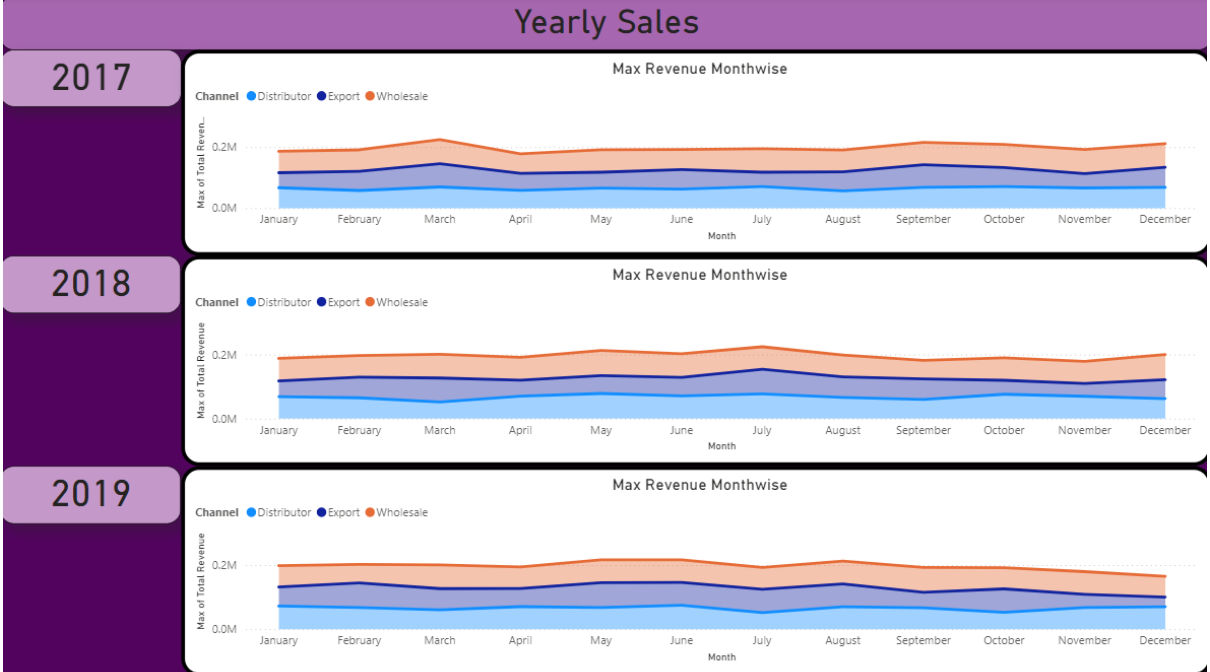

What the dashboard file says about the page in this screenshot:
{"tool":"powerbi","page":{"name":"Page 2","canvas":[1280,720],"ordinal":1},"visuals":[{"type":"textbox","title":"Yearly Sales","box":[0,0,1279.4,57.7],"z":0},{"type":"textbox","title":"2017","box":[0,57.2,191.3,60.5],"z":1000},{"type":"textbox","title":"2018","box":[0,274.2,190.8,60.9],"z":2000},{"type":"textbox","title":"2019","box":[0,497,190.8,60.9],"z":3000},{"type":"stackedAreaChart","title":"Max Revenue Monthwise","fields":{"Y":["Max(Sales2017.Total Revenue)"],"Category":["Sales2017.OrderDate.Variation.Date Hierarchy.Month"],"Series":["Sales2017.Channel"]},"box":[191.3,57.2,1087.6,217.5],"z":4000},{"type":"stackedAreaChart","title":"Max Revenue Monthwise","fields":{"Category":["Sales2018.OrderDate.Variation.Date Hierarchy.Month"],"Y":["Max(Sales2018.Total Revenue)"],"Series":["Sales2018.Channel"]},"box":[191.3,274.8,1087.6,222.4],"z":5000},{"type":"stackedAreaChart","title":"Max Revenue Monthwise","fields":{"Category":["Sales2019.OrderDate.Variation.Date Hierarchy.Month"],"Y":["Max(Sales2019.Total Revenue)"],"Series":["Sales2019.Channel"]},"box":[191.3,497.2,1087.6,222.4],"z":6000}]}

Visuals, with their boxes in screenshot pixels (x1, y1, x2, y2), scaled from the page's 1280x720 canvas onto the 1210x672 screenshot:
"Yearly Sales" textbox: [x1=0, y1=0, x2=1209, y2=54]
"2017" textbox: [x1=0, y1=53, x2=181, y2=110]
"2018" textbox: [x1=0, y1=256, x2=180, y2=313]
"2019" textbox: [x1=0, y1=464, x2=180, y2=521]
"Max Revenue Monthwise" stackedAreaChart: [x1=181, y1=53, x2=1209, y2=256]
"Max Revenue Monthwise" stackedAreaChart: [x1=181, y1=256, x2=1209, y2=464]
"Max Revenue Monthwise" stackedAreaChart: [x1=181, y1=464, x2=1209, y2=671]
